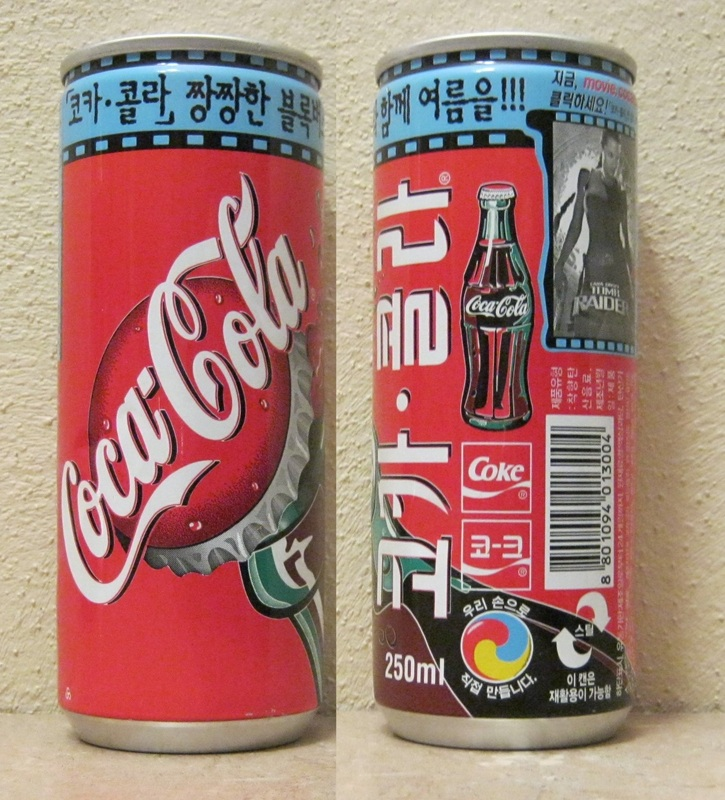Can: (34, 28, 346, 755), (370, 39, 653, 742)
